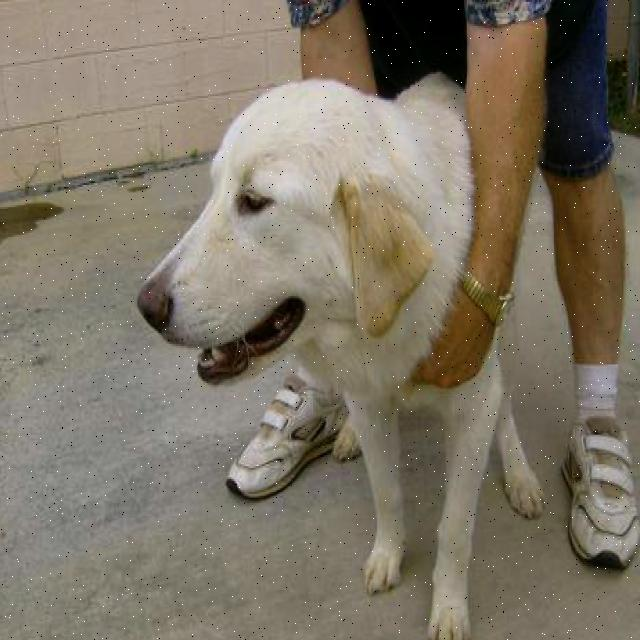Dog: (137, 68, 434, 407)
